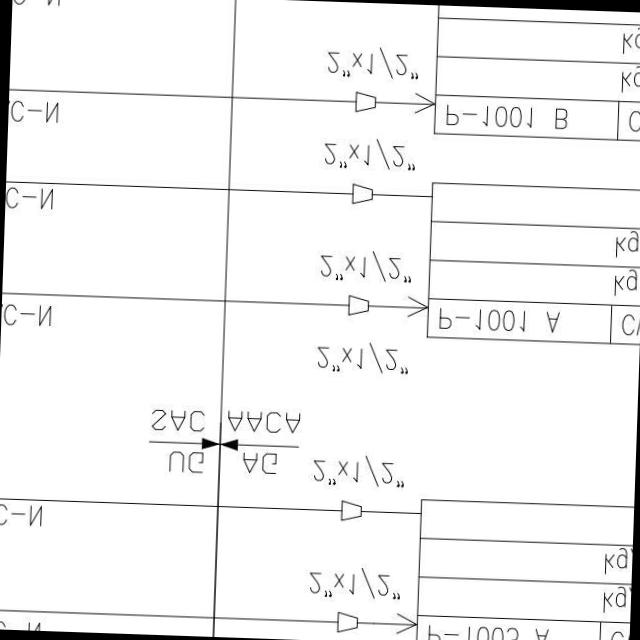SP: (332, 495, 367, 526), (340, 290, 373, 320), (347, 180, 378, 207), (347, 89, 379, 113), (329, 610, 360, 632)
